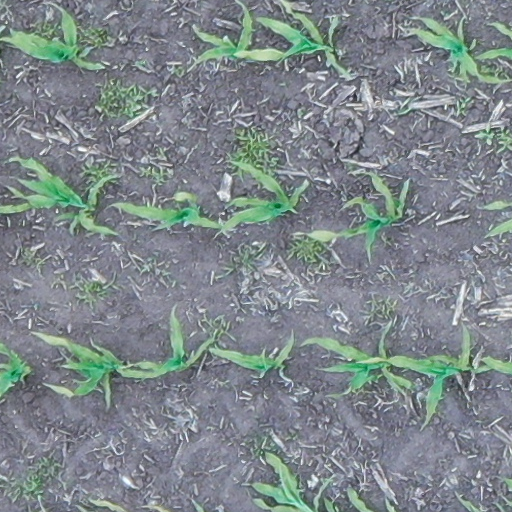planta: (33, 307, 215, 414), (302, 326, 473, 429), (305, 170, 412, 263), (111, 189, 296, 235), (407, 14, 508, 87), (255, 10, 353, 79), (192, 7, 287, 66), (9, 153, 94, 213), (206, 336, 296, 377), (232, 156, 284, 194), (84, 171, 117, 205), (66, 209, 98, 232)
